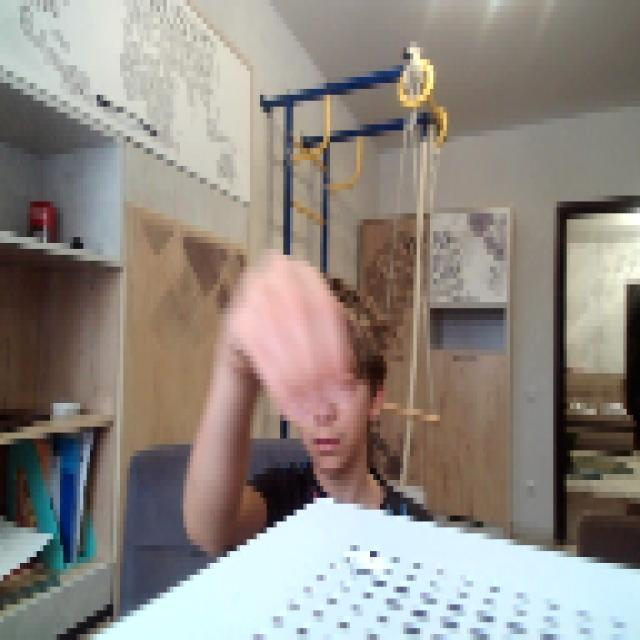left_click: (213, 237, 347, 421)
